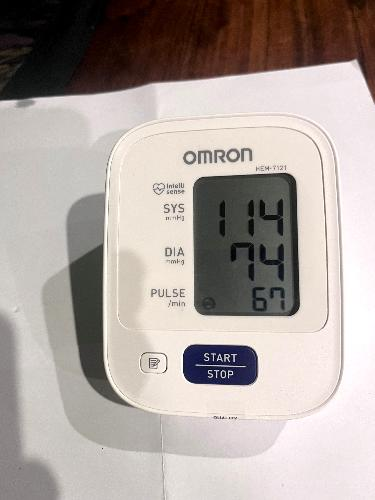bpm: (190, 165, 298, 320)
